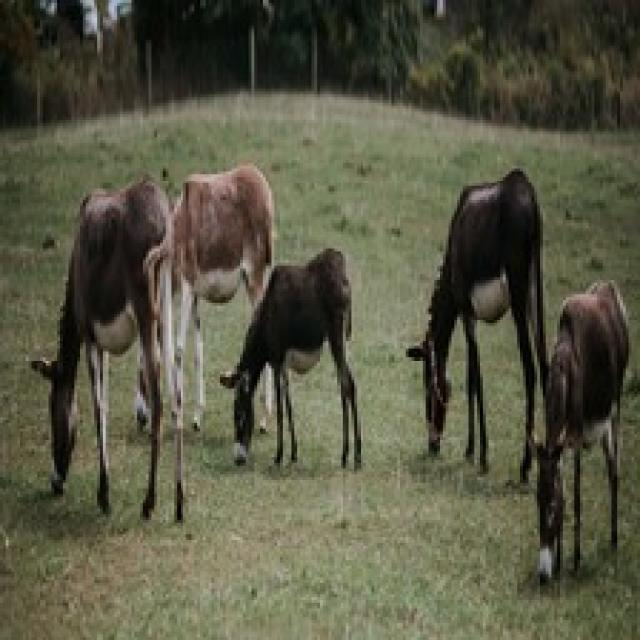Donkey: (28, 171, 185, 523), (402, 166, 548, 483), (132, 162, 274, 432), (217, 246, 360, 468), (532, 277, 628, 586)
